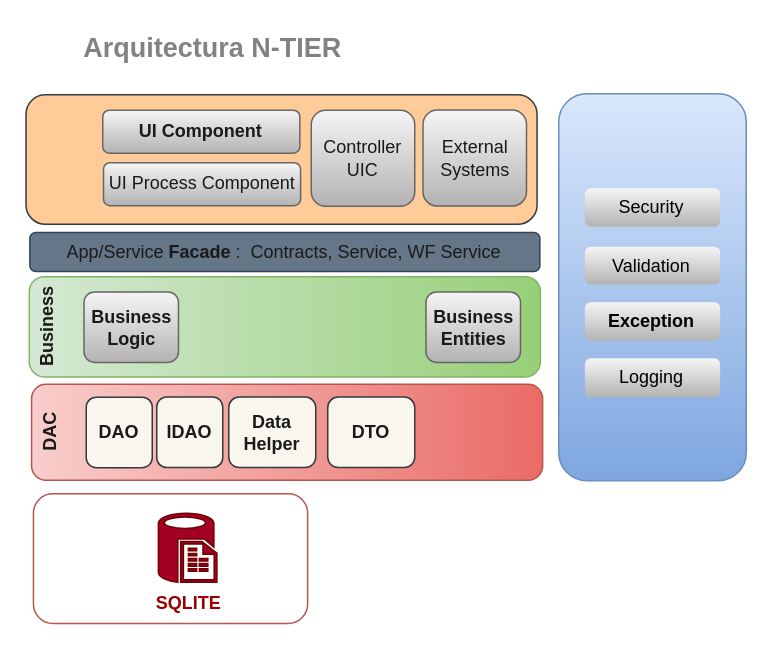
The diagram is 774 pixels wide and 650 high, and some of its shapes have lost their labels. The shapes that lost their labels are listed below. From the top down, each one's box as (x1, y1, x2, y2) in pixels, then its label:
(24, 93, 537, 224): User Interface
(557, 92, 746, 481): Framework
(32, 492, 308, 623): Data Sources
